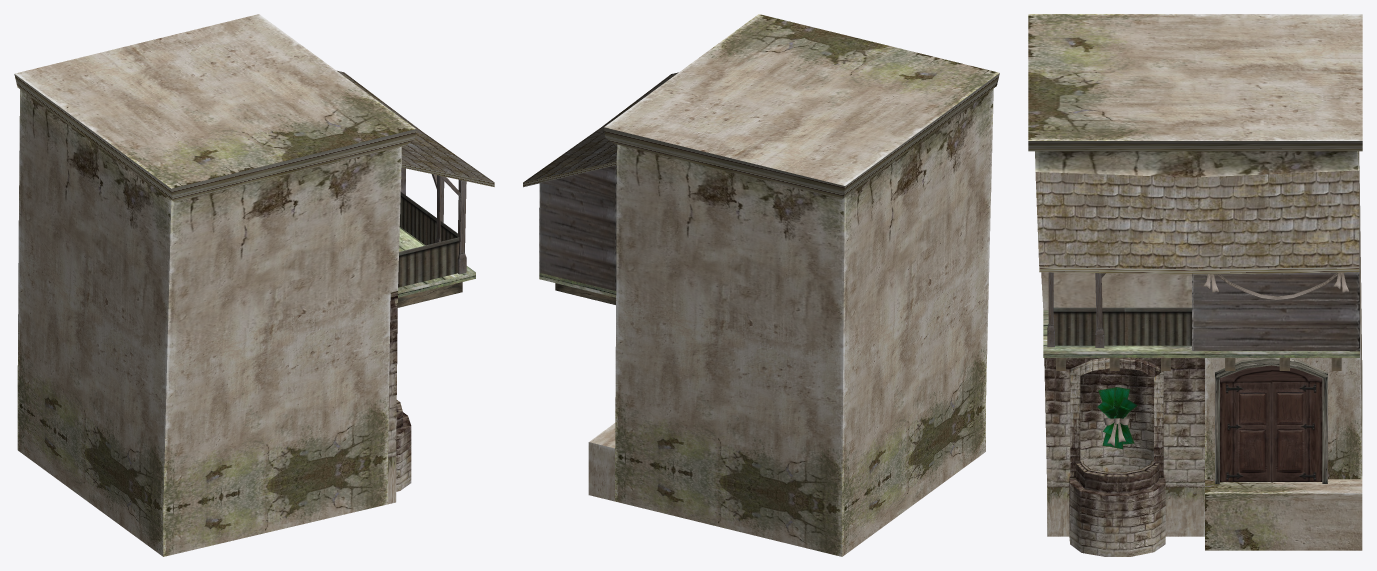
Rendered from english_a.fbx.
3 views of the same model, side by side, from view 1: azimuth 30°, elevation 25°; view 2: azimuth 150°, elevation 25°; view 3: azimuth 270°, elevation 25° (orthographic). The views are drawn at different scales.
Visible parts, largest first — view 1: facade_a_shell4_DUP, railing, pillar1, support_post_6; view 2: facade_a_shell4_DUP, step_sides; view 3: facade_a_shell4_DUP, step_sides, door_left, door_right, railing, door_frame, step, pillar2, decoRibbon_winter08, pillar1.
Part boxes in pixels (bbox=[...]): facade_a_shell4_DUP: bbox=[14, 14, 494, 556]; railing: bbox=[398, 192, 459, 287]; pillar1: bbox=[439, 175, 466, 274]; support_post_6: bbox=[397, 282, 462, 307]; facade_a_shell4_DUP: bbox=[523, 14, 999, 556]; step_sides: bbox=[588, 442, 614, 501]; facade_a_shell4_DUP: bbox=[1028, 14, 1362, 556]; step_sides: bbox=[1205, 493, 1362, 550]; door_left: bbox=[1220, 365, 1271, 481]; door_right: bbox=[1271, 365, 1322, 481]; railing: bbox=[1053, 307, 1191, 345]; door_frame: bbox=[1215, 358, 1327, 483]; step: bbox=[1205, 479, 1362, 493]; pillar2: bbox=[1095, 273, 1105, 347]; decoRibbon_winter08: bbox=[1216, 272, 1338, 300]; pillar1: bbox=[1047, 272, 1054, 347].
Bounding box in the file's own units: 3705 × 4066 × 3069.
2 materials, 2 textured.
